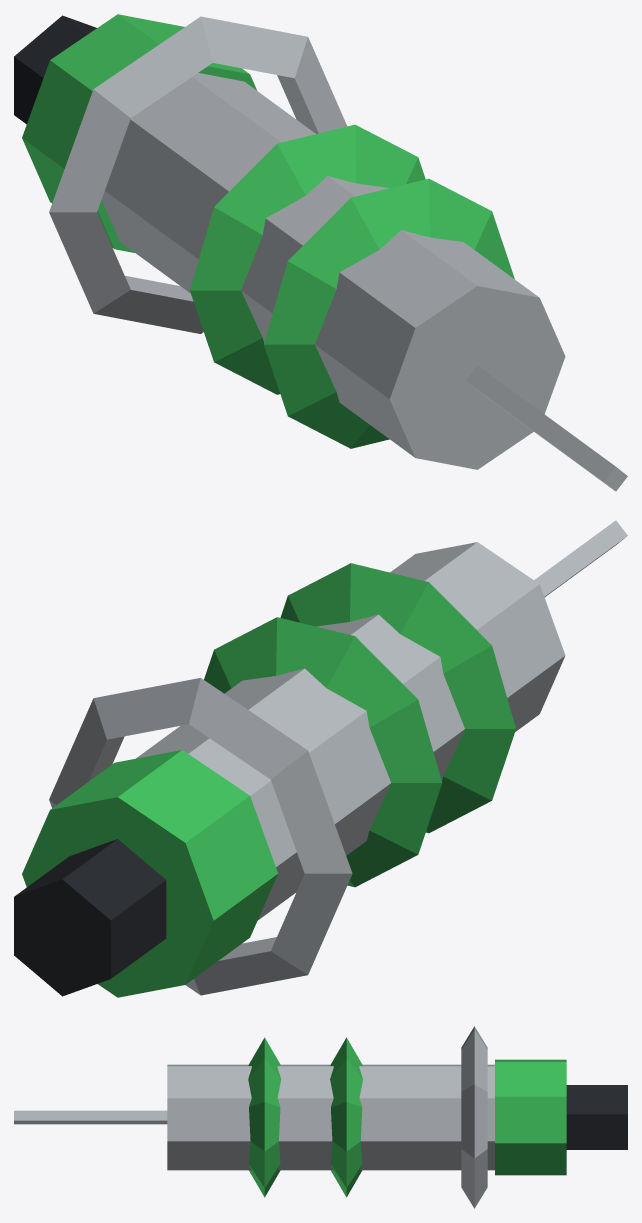
The model's file is stim-dexterity.glb.
3 views of the same model, one above another, from view 1: azimuth 30°, elevation 25°; view 2: azimuth 150°, elevation 25°; view 3: azimuth 270°, elevation 25° (orthographic). The views are drawn at different scales.
Visible parts, largest first — view 1: m; view 2: m; view 3: m.
Part boxes in pixels (x1=…): m: x1=14, y1=14, x2=627, y2=491; m: x1=14, y1=520, x2=627, y2=997; m: x1=14, y1=1026, x2=627, y2=1208.
Bounding box in the file's own units: 0.0283 × 0.0283 × 0.0893.
